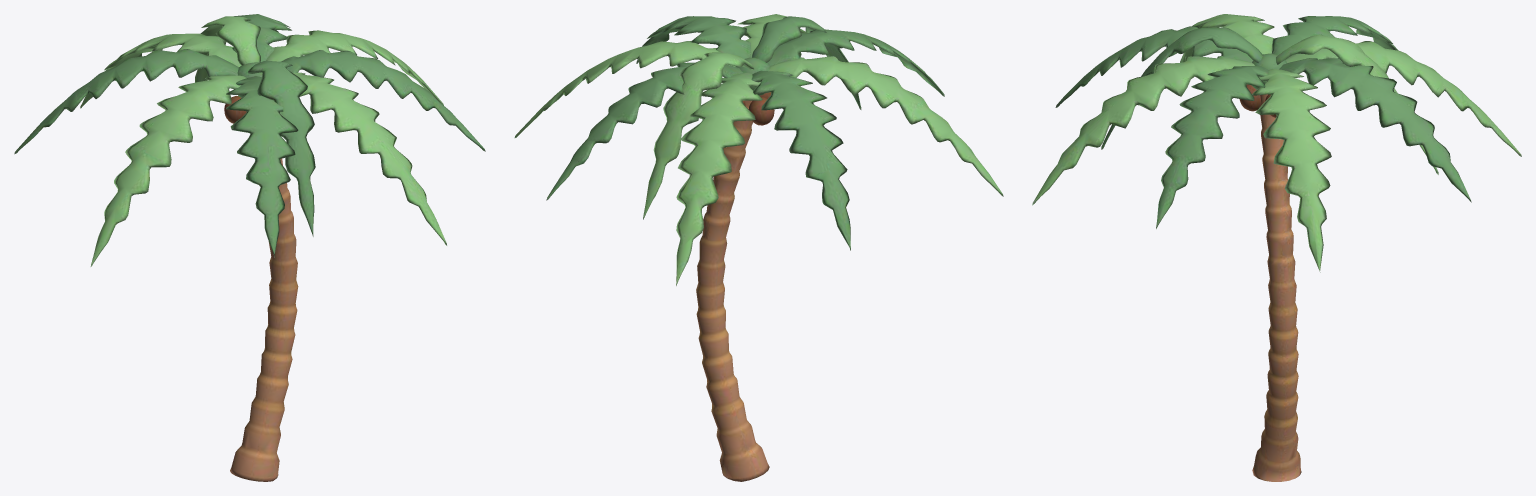
File: palm-tree.glb
The picture shows the model from 3 angles, left to right: view 1: azimuth 30°, elevation 25°; view 2: azimuth 150°, elevation 25°; view 3: azimuth 270°, elevation 25°; orthographic projection.
Visible parts, largest first — view 1: palm-tree_body; view 2: palm-tree_body; view 3: palm-tree_body.
Boxes of the visible parts, left/top/right/bottom form: palm-tree_body: left=14, top=14, right=485, bottom=481; palm-tree_body: left=514, top=14, right=1003, bottom=481; palm-tree_body: left=1032, top=14, right=1521, bottom=481.
Bounding box in the file's own units: 5.18 × 5.09 × 5.18.
Materials: 1 (1 with a texture image).
